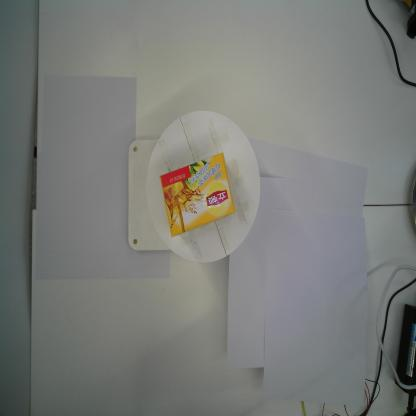Instant Drink: (160, 152, 235, 238)
